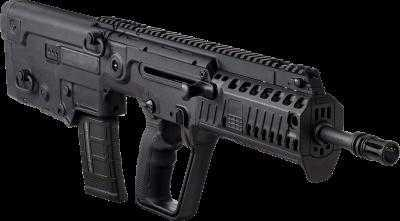heavyweapon: (2, 0, 400, 217)
